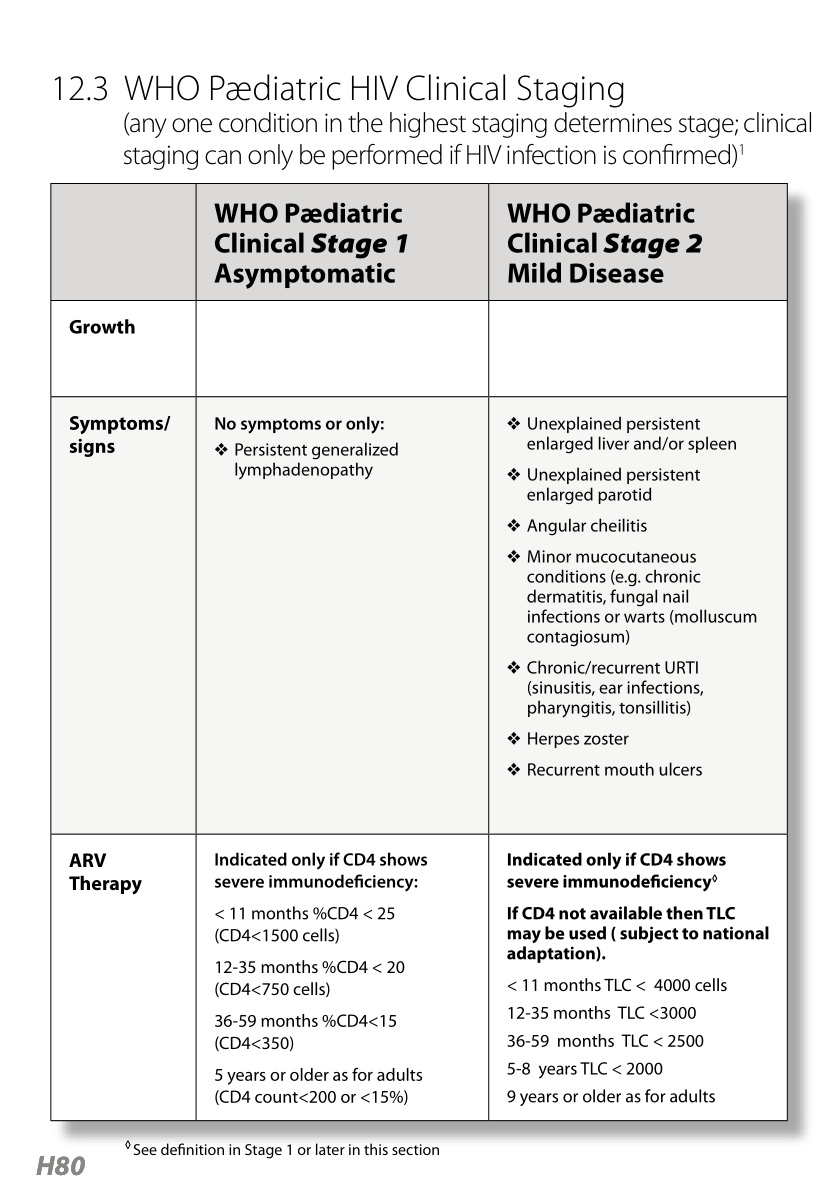full_lined: (48, 182, 789, 1123)
